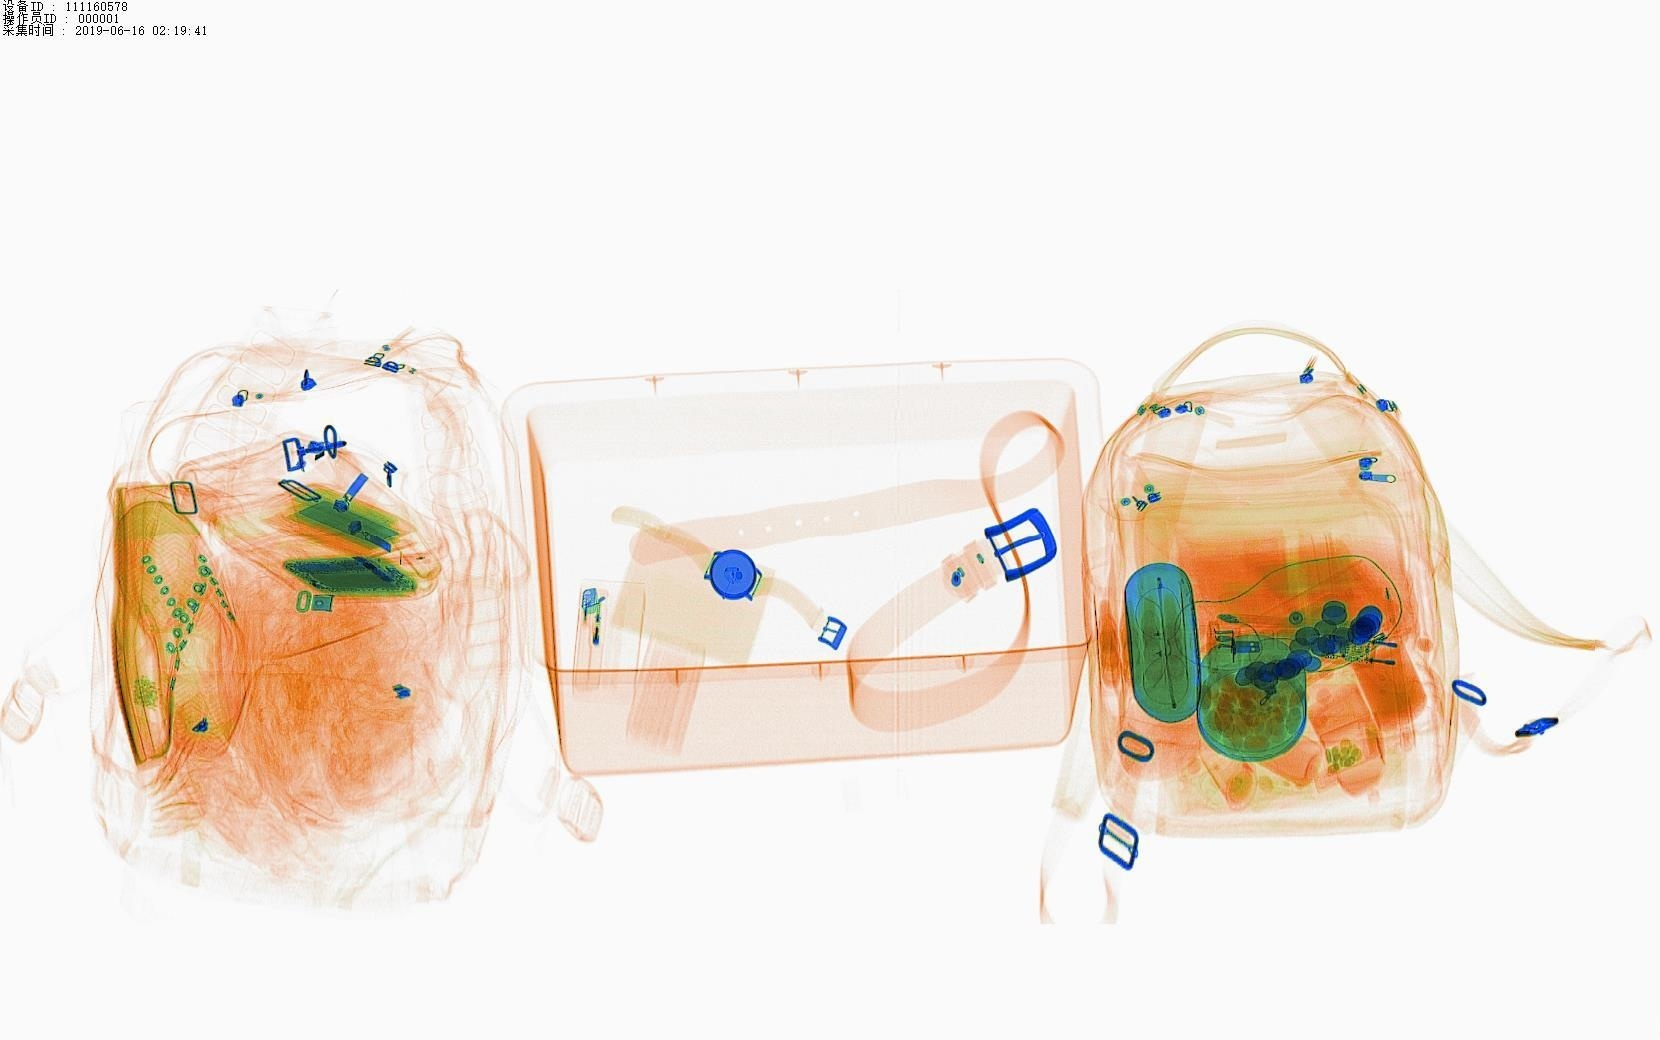NonmetallicFire: (553, 573, 640, 724)
